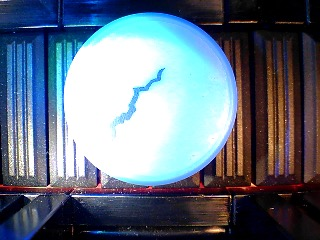CRACK: (63, 10, 238, 186)
